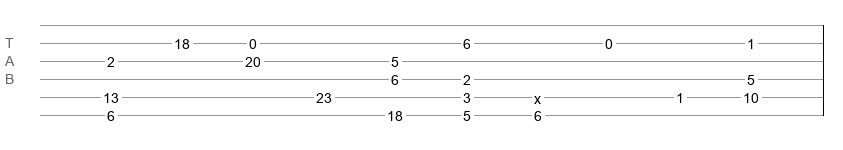0: (249, 36, 257, 46), (605, 36, 613, 46)
1: (676, 90, 684, 100), (747, 36, 755, 46)
10: (743, 90, 759, 100)
13: (103, 90, 119, 100)
18: (174, 36, 190, 46), (387, 108, 403, 118)
2: (107, 54, 115, 64), (463, 72, 471, 82)
20: (245, 54, 261, 64)
23: (316, 90, 332, 100)
3: (463, 90, 471, 100)
5: (391, 54, 399, 64), (463, 108, 471, 118), (747, 72, 755, 82)
6: (107, 108, 115, 118), (391, 72, 399, 82), (463, 36, 471, 46), (534, 108, 542, 118)
x: (534, 91, 541, 99)
